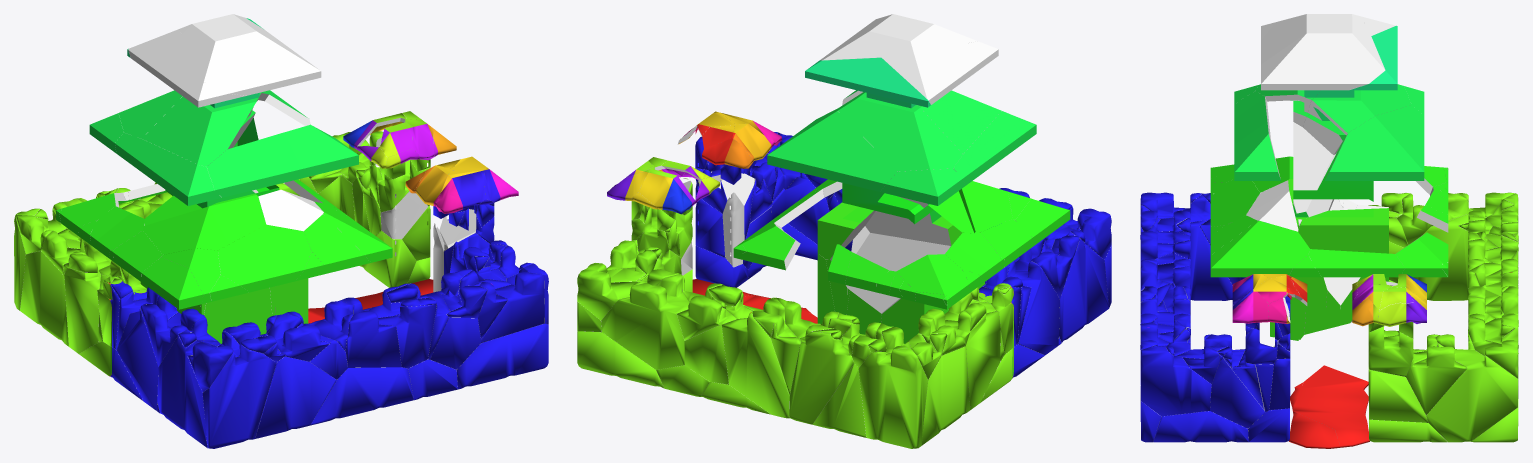
The model's file is Structure_Tower_Knight_Human_04_02_debris_cells_main_structure.fbx.
3 views of the same model, side by side, from view 1: azimuth 30°, elevation 25°; view 2: azimuth 150°, elevation 25°; view 3: azimuth 270°, elevation 25° (orthographic). The views are drawn at different scales.
Parts seen in each view (by area): view 1: Structure_Tower_Knight_Human_04_02_cell.152, Structure_Tower_Knight_Human_04_02_cell.224, Structure_Tower_Knight_Human_04_02_cell.140, Structure_Tower_Knight_Human_04_02_cell.030, Structure_Tower_Knight_Human_04_02_cell.215, Structure_Tower_Knight_Human_04_02_cell.205, Structure_Tower_Knight_Human_04_02_cell.022, Structure_Tower_Knight_Human_04_02_cell.060, Structure_Tower_Knight_Human_04_02_cell.062, Structure_Tower_Knight_Human_04_02_cell.233, Structure_Tower_Knight_Human_04_02_cell.216, Structure_Tower_Knight_Human_04_02_cell.084 (+55 smaller); view 2: Structure_Tower_Knight_Human_04_02_cell.179, Structure_Tower_Knight_Human_04_02_cell.192, Structure_Tower_Knight_Human_04_02_cell.052, Structure_Tower_Knight_Human_04_02_cell.147, Structure_Tower_Knight_Human_04_02_cell.140, Structure_Tower_Knight_Human_04_02_cell.003, Structure_Tower_Knight_Human_04_02_cell.075, Structure_Tower_Knight_Human_04_02_cell.152, Structure_Tower_Knight_Human_04_02_cell.216, Structure_Tower_Knight_Human_04_02_cell.084, Structure_Tower_Knight_Human_04_02_cell.180, Structure_Tower_Knight_Human_04_02_cell.025 (+55 smaller); view 3: Structure_Tower_Knight_Human_04_02_cell.152, Structure_Tower_Knight_Human_04_02_cell.192, Structure_Tower_Knight_Human_04_02_cell.129, Structure_Tower_Knight_Human_04_02_cell.008, Structure_Tower_Knight_Human_04_02_cell.107, Structure_Tower_Knight_Human_04_02_cell.223, Structure_Tower_Knight_Human_04_02_cell.081, Structure_Tower_Knight_Human_04_02_cell.224, Structure_Tower_Knight_Human_04_02_cell.140, Structure_Tower_Knight_Human_04_02_cell.179, Structure_Tower_Knight_Human_04_02_cell.025, Structure_Tower_Knight_Human_04_02_cell.126 (+61 smaller).
Part boxes in pixels (x1,y1,x2,y2): Structure_Tower_Knight_Human_04_02_cell.152: [179, 14, 321, 95]; Structure_Tower_Knight_Human_04_02_cell.224: [206, 124, 358, 197]; Structure_Tower_Knight_Human_04_02_cell.140: [143, 189, 274, 254]; Structure_Tower_Knight_Human_04_02_cell.030: [202, 344, 276, 448]; Structure_Tower_Knight_Human_04_02_cell.215: [142, 93, 260, 166]; Structure_Tower_Knight_Human_04_02_cell.205: [218, 224, 311, 292]; Structure_Tower_Knight_Human_04_02_cell.022: [255, 356, 336, 438]; Structure_Tower_Knight_Human_04_02_cell.060: [457, 323, 548, 389]; Structure_Tower_Knight_Human_04_02_cell.062: [310, 367, 413, 425]; Structure_Tower_Knight_Human_04_02_cell.233: [115, 133, 221, 205]; Structure_Tower_Knight_Human_04_02_cell.216: [128, 29, 245, 107]; Structure_Tower_Knight_Human_04_02_cell.084: [157, 329, 217, 447]; Structure_Tower_Knight_Human_04_02_cell.179: [837, 92, 962, 171]; Structure_Tower_Knight_Human_04_02_cell.192: [767, 108, 897, 191]; Structure_Tower_Knight_Human_04_02_cell.052: [858, 348, 928, 448]; Structure_Tower_Knight_Human_04_02_cell.147: [601, 274, 689, 369]; Structure_Tower_Knight_Human_04_02_cell.140: [865, 181, 1012, 245]; Structure_Tower_Knight_Human_04_02_cell.003: [721, 311, 789, 418]; Structure_Tower_Knight_Human_04_02_cell.075: [789, 332, 854, 424]; Structure_Tower_Knight_Human_04_02_cell.152: [820, 14, 977, 60]; Structure_Tower_Knight_Human_04_02_cell.216: [881, 41, 998, 104]; Structure_Tower_Knight_Human_04_02_cell.084: [1051, 232, 1108, 342]; Structure_Tower_Knight_Human_04_02_cell.180: [805, 57, 930, 107]; Structure_Tower_Knight_Human_04_02_cell.025: [909, 333, 970, 445]; Structure_Tower_Knight_Human_04_02_cell.152: [1261, 14, 1385, 90]; Structure_Tower_Knight_Human_04_02_cell.192: [1325, 105, 1424, 180]; Structure_Tower_Knight_Human_04_02_cell.129: [1425, 349, 1518, 442]; Structure_Tower_Knight_Human_04_02_cell.008: [1210, 220, 1309, 277]; Structure_Tower_Knight_Human_04_02_cell.107: [1141, 345, 1211, 416]; Structure_Tower_Knight_Human_04_02_cell.223: [1292, 365, 1368, 429]; Structure_Tower_Knight_Human_04_02_cell.081: [1298, 208, 1388, 253]; Structure_Tower_Knight_Human_04_02_cell.224: [1234, 91, 1280, 180]; Structure_Tower_Knight_Human_04_02_cell.140: [1252, 122, 1335, 224]; Structure_Tower_Knight_Human_04_02_cell.179: [1307, 84, 1411, 135]; Structure_Tower_Knight_Human_04_02_cell.025: [1413, 214, 1486, 300]; Structure_Tower_Knight_Human_04_02_cell.126: [1153, 411, 1248, 442].
Bounding box in the file's own units: 959 × 832 × 912.
